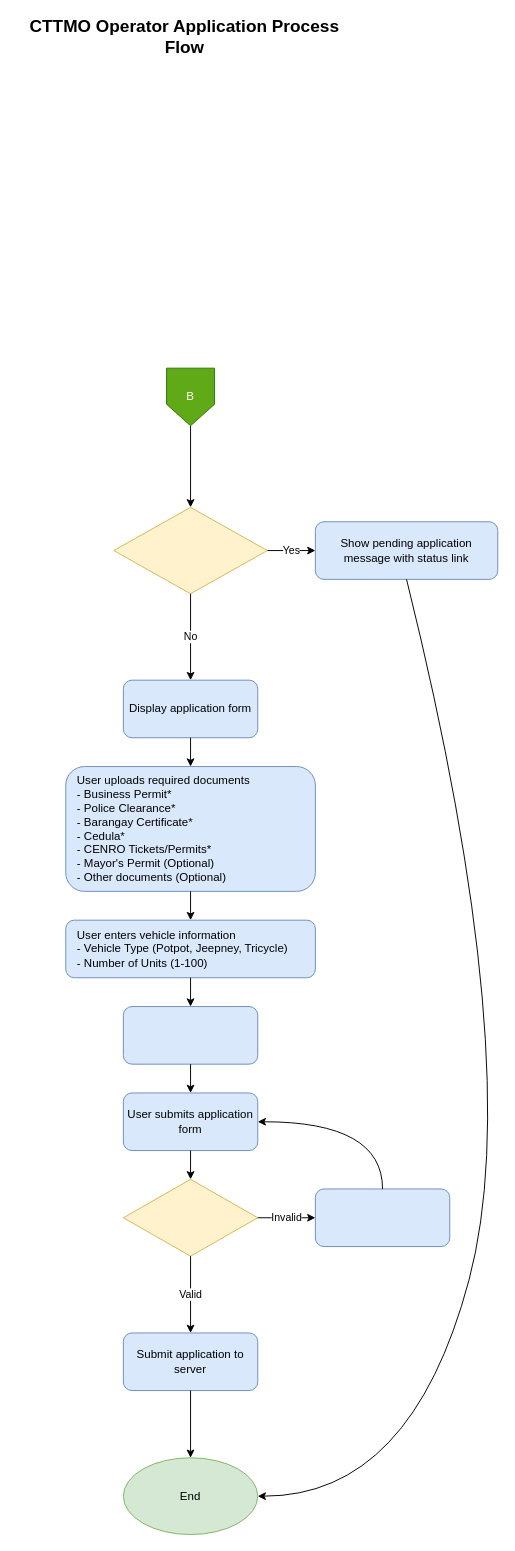
Some shapes in this 515 by 1551 pixel diagram are drawn without their labels. Here are the shapes that lost their labels. From the top down, the centre of each, then its label:
At point (190, 550): "Has pending application?".
At point (190, 1035): "System shows preview of vehicle units".
At point (190, 1217): "Form validation".
At point (382, 1217): "Display error messages".
